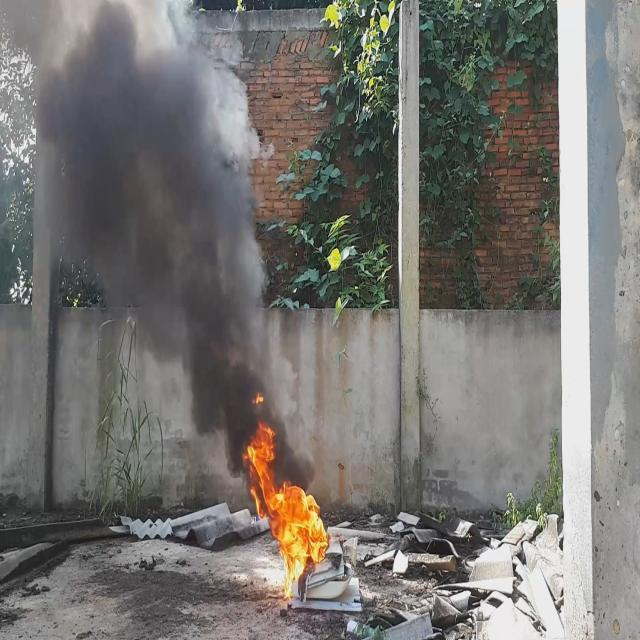Fire: (241, 420, 331, 607)
Smoke: (0, 0, 316, 495)
